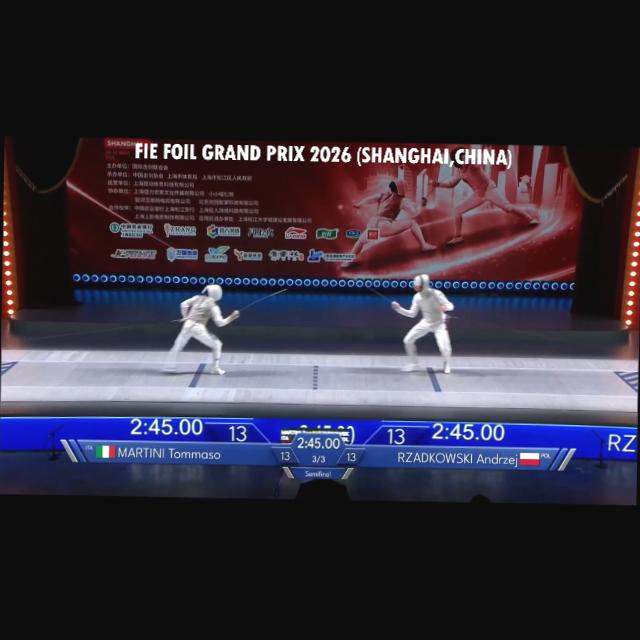blade: (339, 269, 398, 309), (230, 286, 292, 316)
